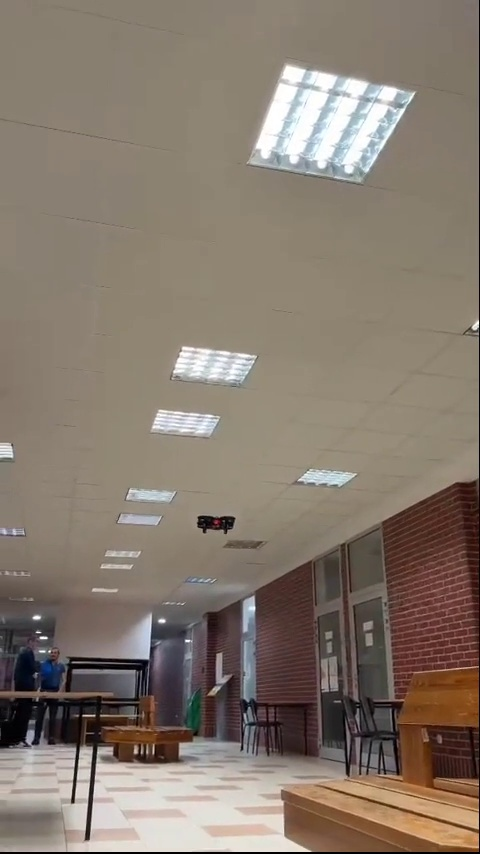drone: (191, 511, 240, 536)
no vest: (11, 634, 41, 740), (44, 644, 66, 749)
